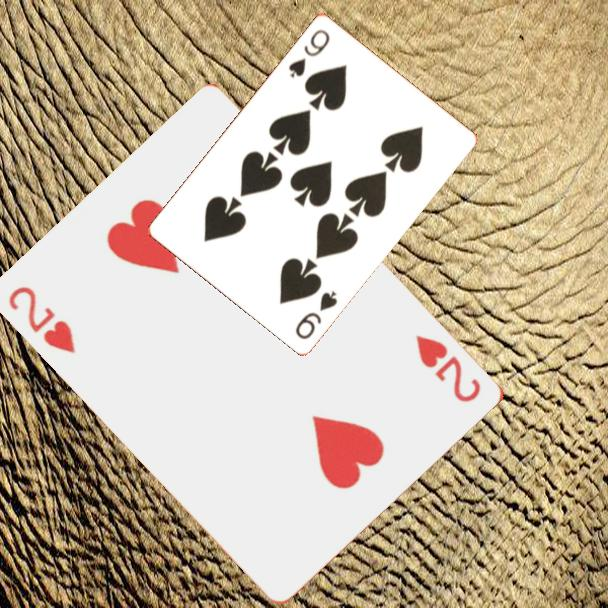h02: (5, 282, 80, 357), (412, 331, 485, 405)
s09: (291, 287, 340, 342), (285, 25, 333, 80)
